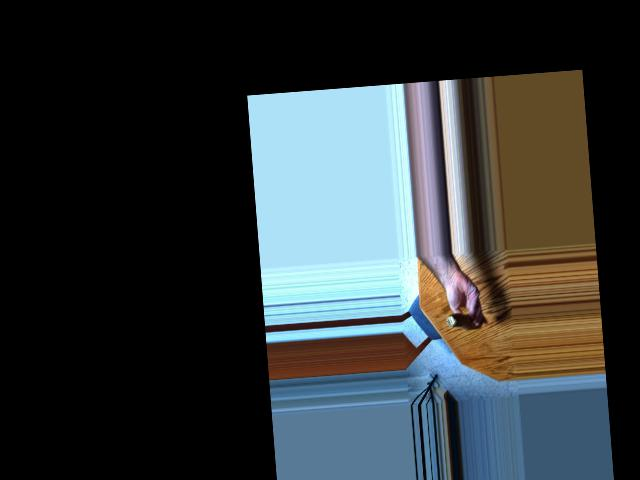sweet_potato: (440, 302, 484, 333)
